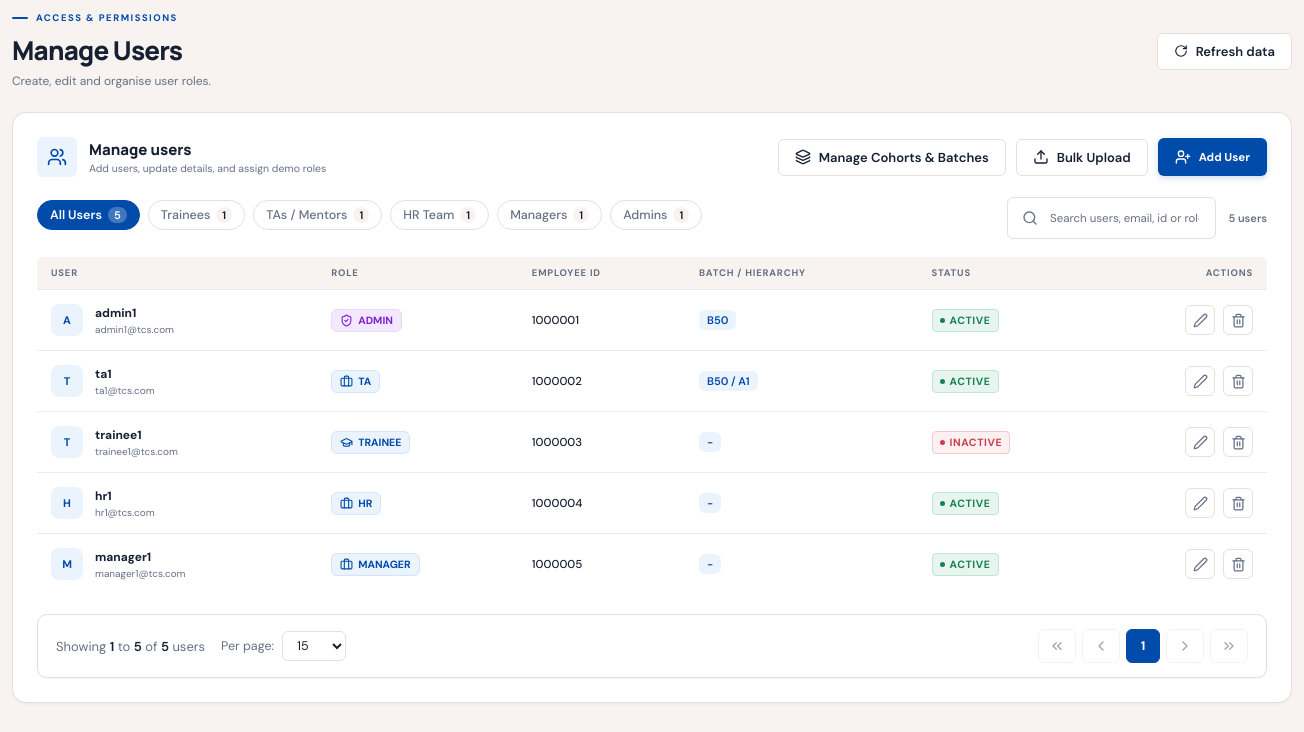
Scenario: ManageUsers page › filters rows by role tab
Expected: the text "admin1" is shown, [95, 304, 136, 320]
Click the tab "Admins 1" at {"x": 656, "y": 215}, box [610, 200, 702, 230]
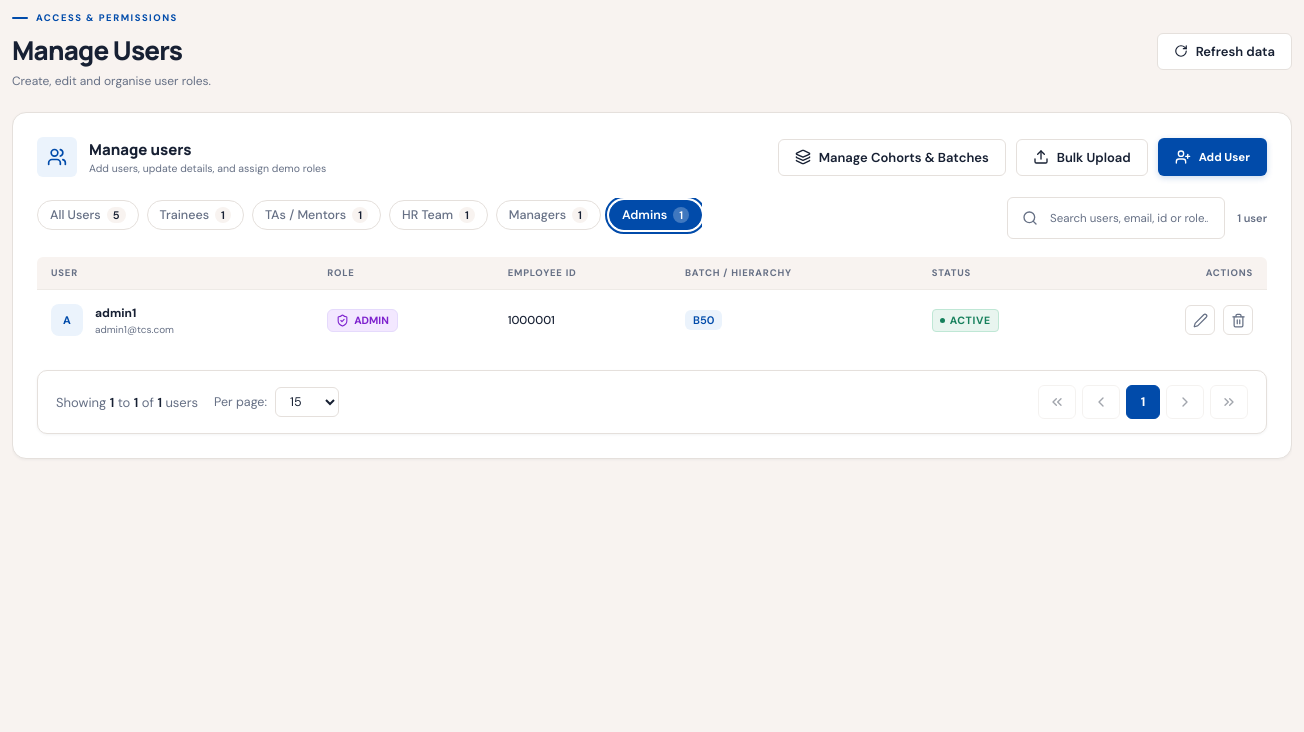
Expected: the text "admin1" is shown, [95, 304, 136, 320]
Now the text "ta1" is gone
Now the text "trainee1" is gone
